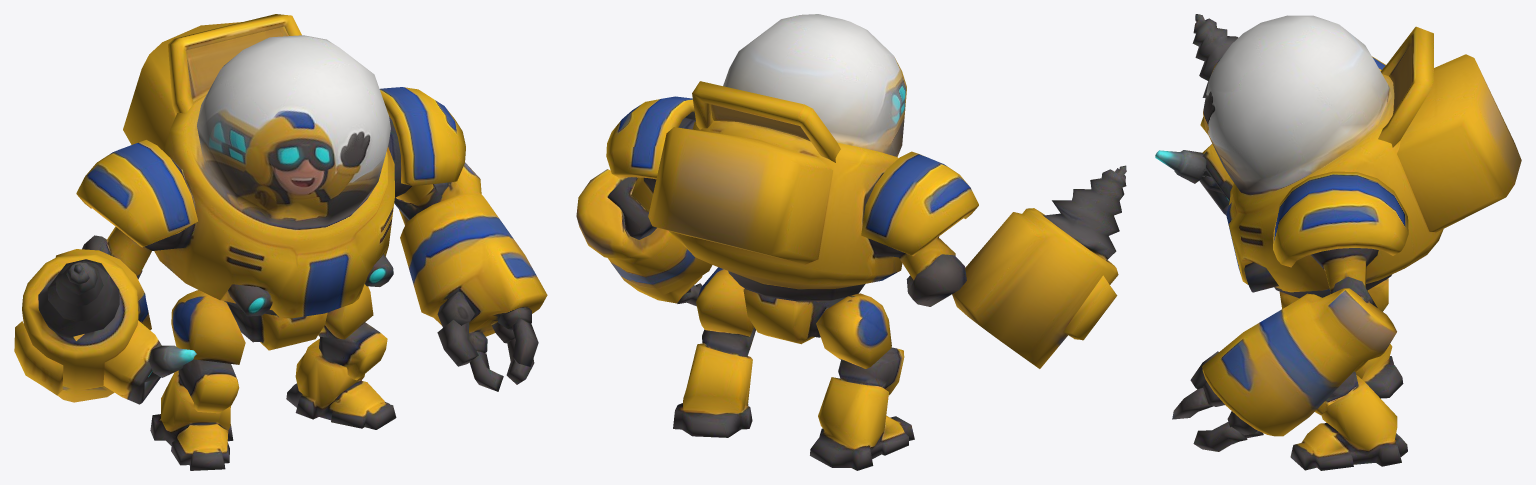
File: scv.glb
3 renders of one model, left to right at view 1: azimuth 30°, elevation 25°; view 2: azimuth 150°, elevation 25°; view 3: azimuth 270°, elevation 25°, orthographic. The views are drawn at different scales.
Parts seen in each view (by area): view 1: tripo_node_290b1c32-7390-48d8-b66f-775877d92f2e; view 2: tripo_node_290b1c32-7390-48d8-b66f-775877d92f2e; view 3: tripo_node_290b1c32-7390-48d8-b66f-775877d92f2e.
Boxes of the visible parts, <box> form: tripo_node_290b1c32-7390-48d8-b66f-775877d92f2e: <box>14,14,547,470</box>; tripo_node_290b1c32-7390-48d8-b66f-775877d92f2e: <box>576,14,1126,470</box>; tripo_node_290b1c32-7390-48d8-b66f-775877d92f2e: <box>1155,14,1521,470</box>.
Size of the model in its own units: 3.19 by 2.4 by 2.02.
1 material, 1 textured.
